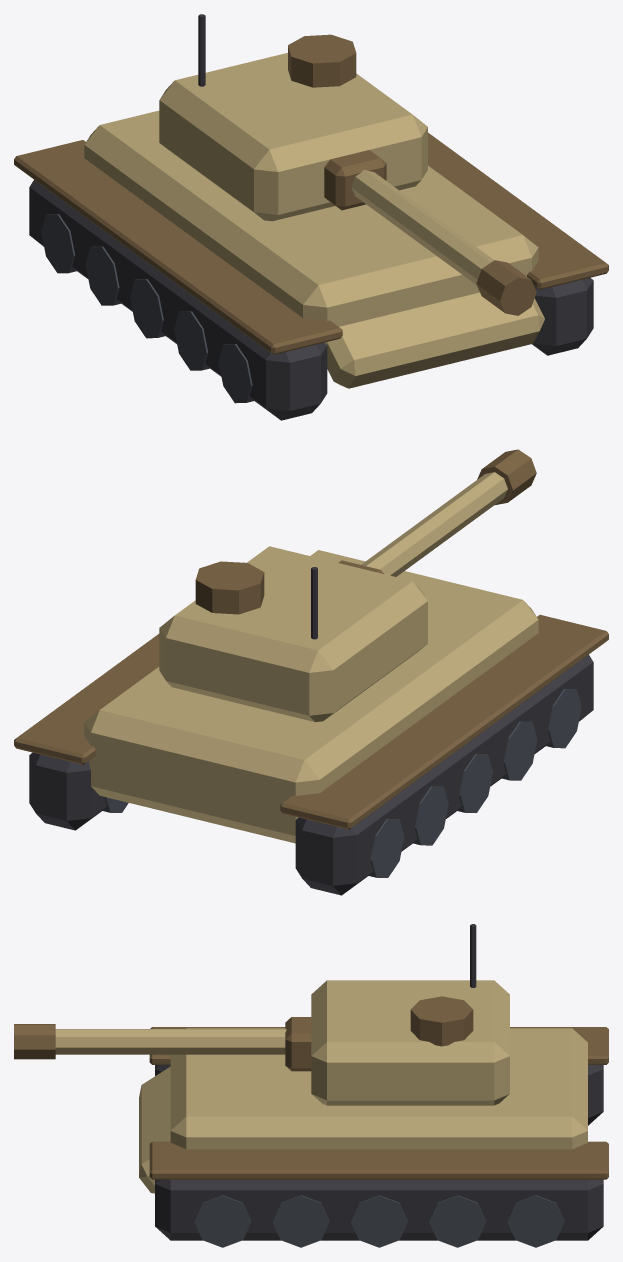
The model's file is DesertTank.fbx.
3 renders of one model, top to bottom at view 1: azimuth 30°, elevation 25°; view 2: azimuth 150°, elevation 25°; view 3: azimuth 270°, elevation 25°, orthographic. The views are drawn at different scales.
Parts seen in each view (by area): view 1: DesertTank, DesertTank_Turret; view 2: DesertTank, DesertTank_Turret; view 3: DesertTank, DesertTank_Turret.
Part boxes in pixels (x1=…): DesertTank: x1=14, y1=110, x2=608, y2=420; DesertTank_Turret: x1=159, y1=14, x2=536, y2=315; DesertTank: x1=14, y1=550, x2=608, y2=895; DesertTank_Turret: x1=159, y1=449, x2=536, y2=722; DesertTank: x1=139, y1=1027, x2=608, y2=1247; DesertTank_Turret: x1=14, y1=924, x2=509, y2=1105.
Bounding box in the file's own units: 6.6 × 4.8 × 11.4.
1 material, 1 textured.
